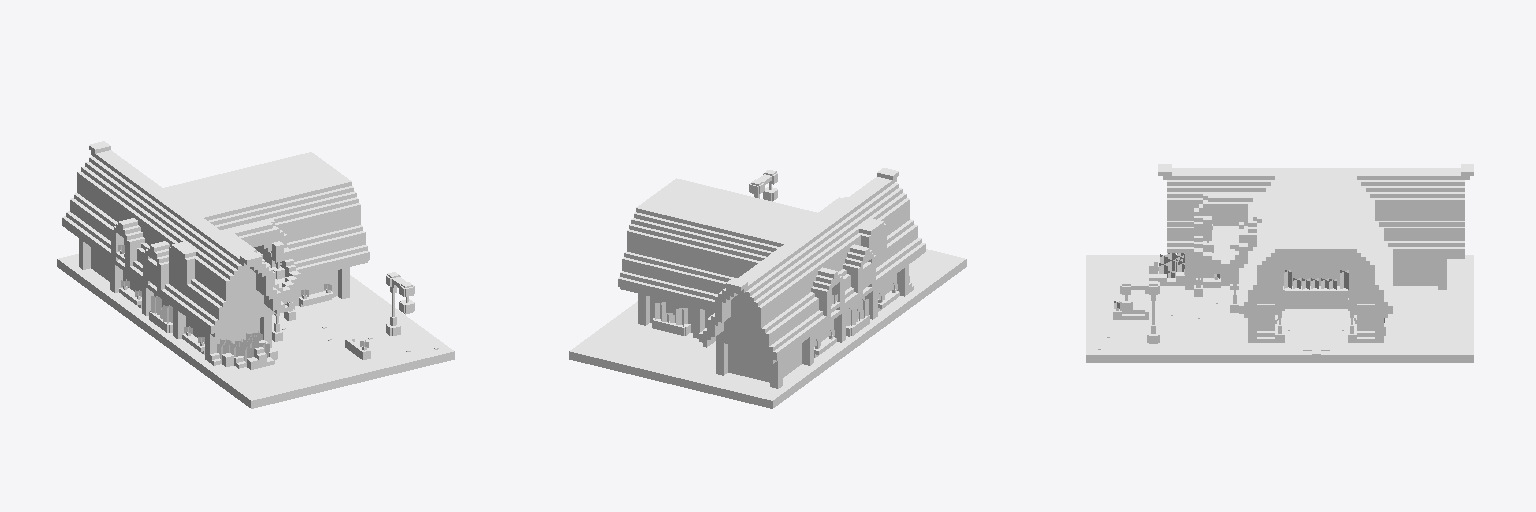
3 views of the same model, side by side, from view 1: azimuth 30°, elevation 25°; view 2: azimuth 150°, elevation 25°; view 3: azimuth 270°, elevation 25° (orthographic).
Parts seen in each view (by area): view 1: __891_3_1640_to_916_255_1682; view 2: __891_3_1640_to_916_255_1682; view 3: __891_3_1640_to_916_255_1682.
Part boxes in pixels (bbox=[...]): __891_3_1640_to_916_255_1682: bbox=[57, 141, 454, 408]; __891_3_1640_to_916_255_1682: bbox=[569, 168, 966, 408]; __891_3_1640_to_916_255_1682: bbox=[1086, 164, 1473, 362].
Bounding box in the file's own units: 26 × 14 × 43.